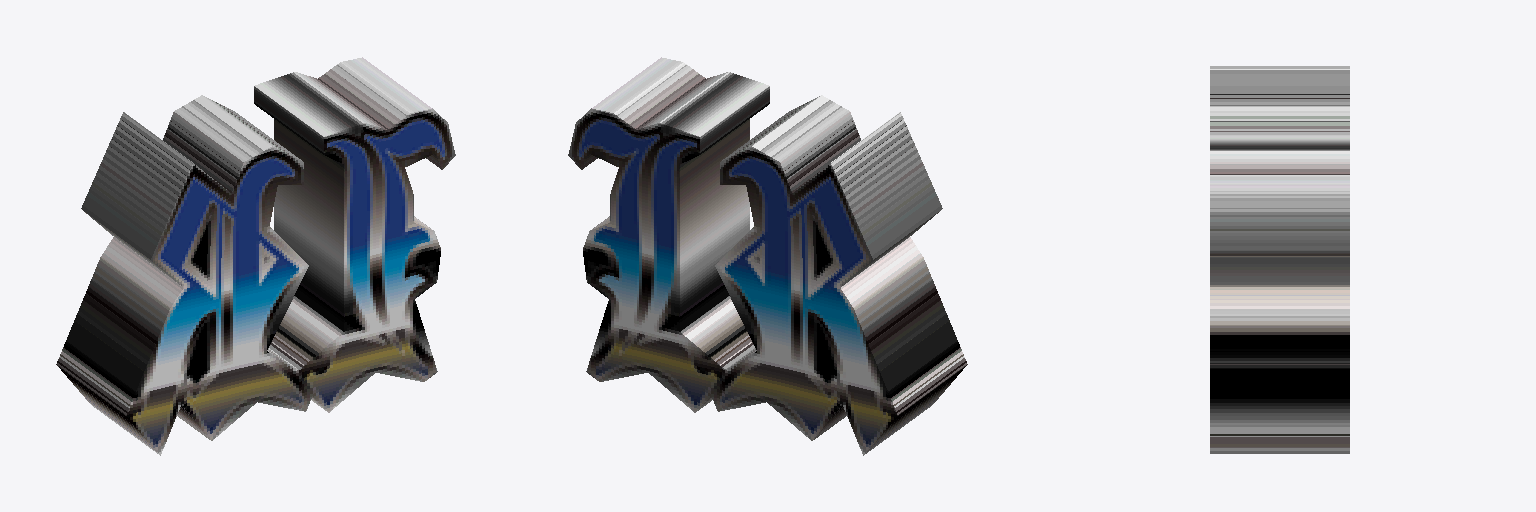
3 renders of one model, left to right at view 1: azimuth 30°, elevation 25°; view 2: azimuth 150°, elevation 25°; view 3: azimuth 270°, elevation 25°, orthographic.
Bounding box in the file's own units: 4.09 × 3.38 × 1.5.
1 materials, 1 textured.